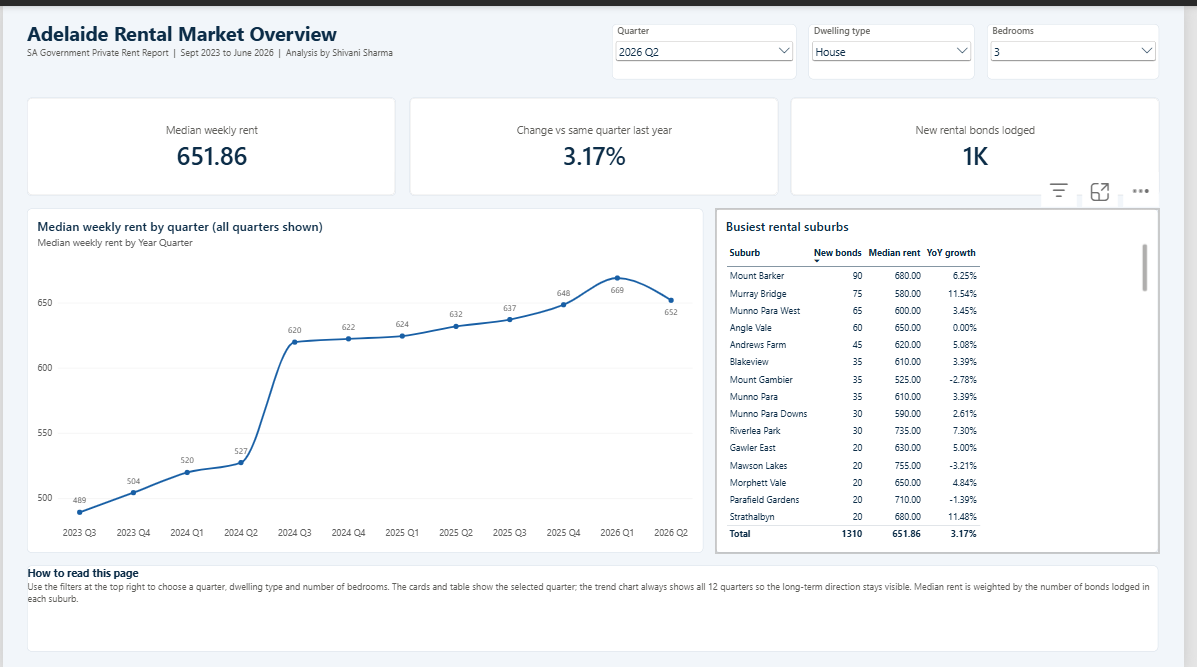

The dashboard page shown, as its layout file describes it:
{"tool":"powerbi","page":{"name":"Overview","canvas":[1920,1080],"ordinal":0},"visuals":[{"type":"cardVisual","fields":{"Data":["Measure_details.Weighted Median Rent"]},"box":[40,150,600,160],"z":10},{"type":"cardVisual","fields":{"Data":["Measure_details.Rent YoY Growth %"]},"box":[660,150,600,160],"z":11},{"type":"cardVisual","fields":{"Data":["Measure_details.Total Bonds"]},"box":[1280,150,600,160],"z":12},{"type":"lineChart","title":"Median weekly rent by quarter (all quarters shown)","fields":{"Category":["Date.Year Quarter"],"Y":["Measure_details.Weighted Median Rent"]},"box":[40,330,1100,560],"z":20},{"type":"tableEx","title":"Busiest rental suburbs","fields":{"Values":["Rent.Suburb","Measure_details.Total Bonds","Measure_details.Weighted Median Rent","Measure_details.Rent YoY Growth %"]},"box":[1160,330,720,560],"z":21},{"type":"textbox","box":[40,910,1840,140],"z":30},{"type":"textbox","box":[40,22,900,110],"z":100},{"type":"slicer","fields":{"Values":["Date.Year Quarter"]},"box":[990,30,300,90],"z":200},{"type":"slicer","fields":{"Values":["Rent.Dwelling Type"]},"box":[1310,30,270,90],"z":201},{"type":"slicer","fields":{"Values":["Rent.Bedrooms"]},"box":[1600,30,280,90],"z":202}]}

Visuals, with their boxes on the page's 1920x1080 design canvas (x1, y1, x2, y2). These are canvas units, not pixel positions in the 1197x667 screenshot, which may show the page scaled, cropped or inside an application window:
cardVisual - Measure_details.Weighted Median Rent: [left=40, top=150, right=640, bottom=310]
cardVisual - Measure_details.Rent YoY Growth %: [left=660, top=150, right=1260, bottom=310]
cardVisual - Measure_details.Total Bonds: [left=1280, top=150, right=1880, bottom=310]
"Median weekly rent by quarter (all quarters shown)" lineChart: [left=40, top=330, right=1140, bottom=890]
"Busiest rental suburbs" tableEx: [left=1160, top=330, right=1880, bottom=890]
textbox: [left=40, top=910, right=1880, bottom=1050]
textbox: [left=40, top=22, right=940, bottom=132]
slicer - Date.Year Quarter: [left=990, top=30, right=1290, bottom=120]
slicer - Rent.Dwelling Type: [left=1310, top=30, right=1580, bottom=120]
slicer - Rent.Bedrooms: [left=1600, top=30, right=1880, bottom=120]
